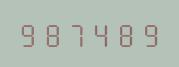eight: (41, 20, 64, 47), (114, 20, 137, 47)
four: (90, 20, 113, 47)
nine: (17, 20, 40, 47), (138, 20, 161, 47)
seven: (66, 20, 89, 47)
